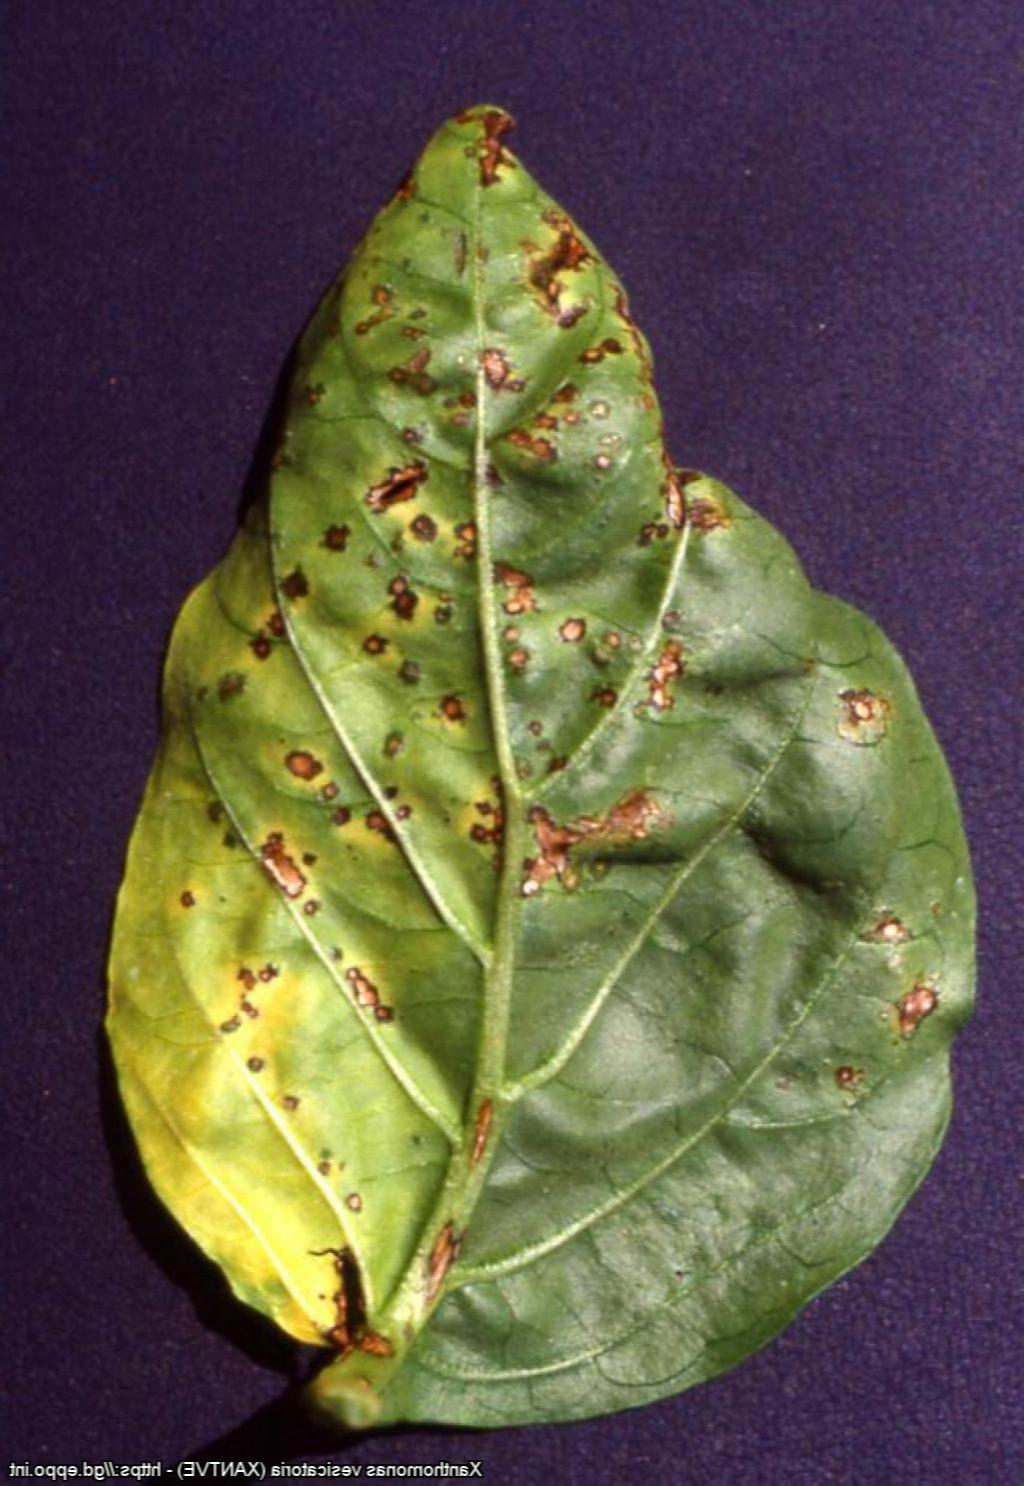Tomato Septoria leaf spot: (113, 49, 968, 1426)
